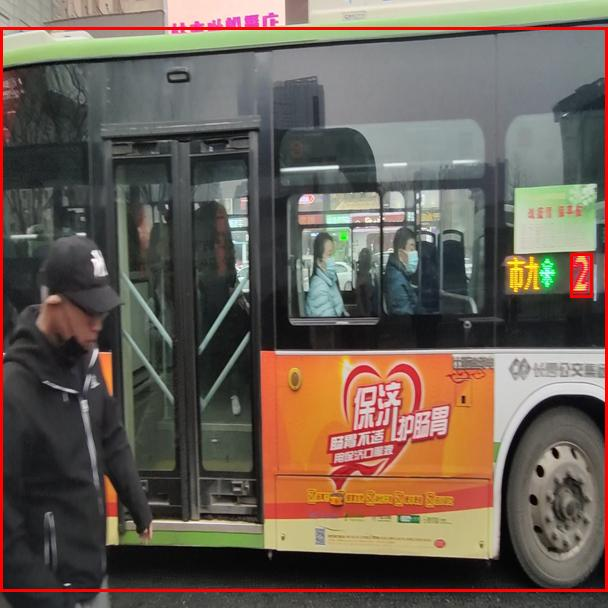bus: (0, 27, 607, 591)
screen: (570, 253, 592, 297)
